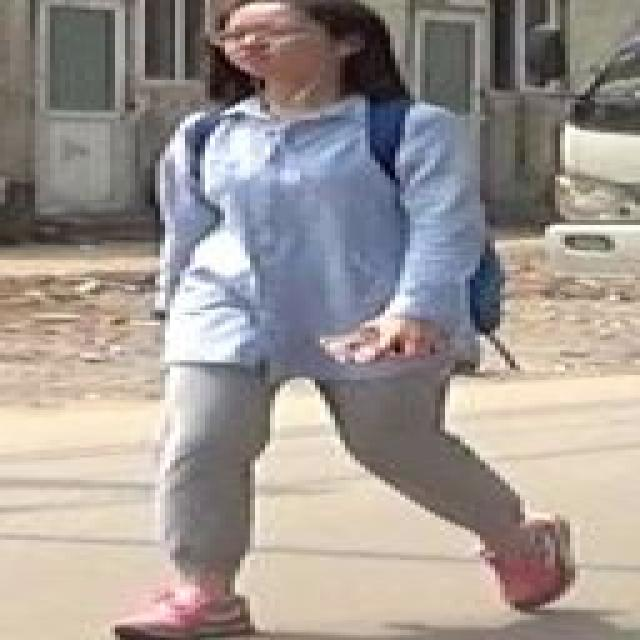adult: (100, 0, 530, 638)
